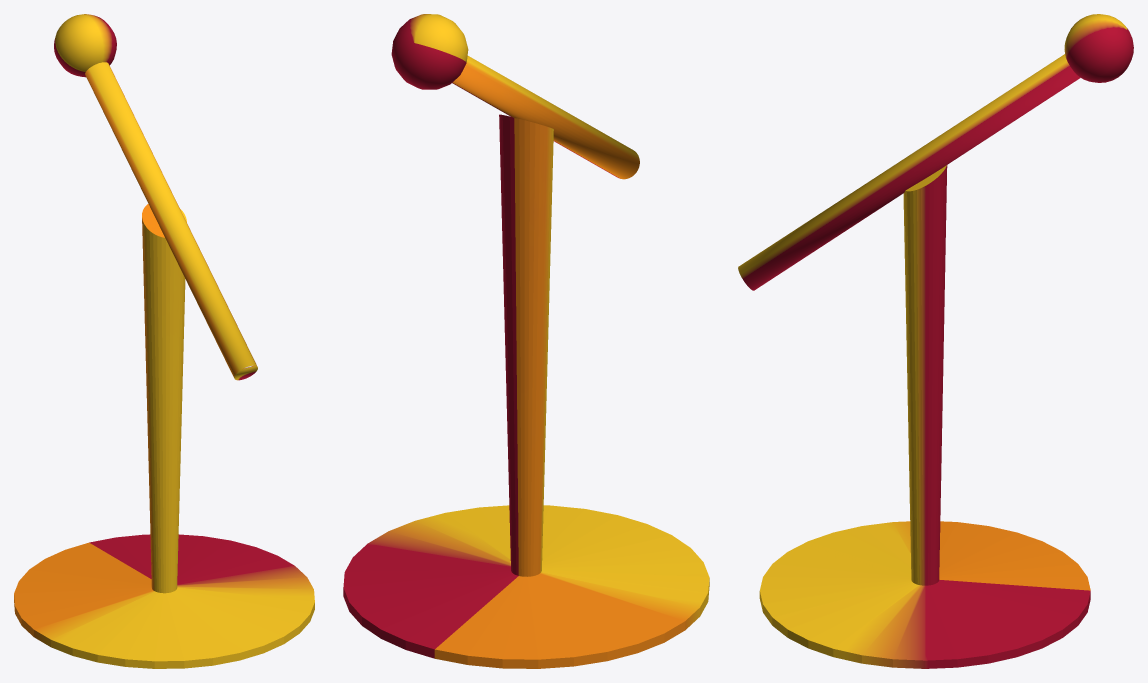
Rendered from microphone.fbx.
3 views of the same model, side by side, from view 1: azimuth 30°, elevation 25°; view 2: azimuth 150°, elevation 25°; view 3: azimuth 270°, elevation 25° (orthographic). The views are drawn at different scales.
Parts seen in each view (by area): view 1: Cylinder.002; view 2: Cylinder.002; view 3: Cylinder.002.
Part boxes in pixels (x1,y1,x2,y2): Cylinder.002: [14, 14, 314, 668]; Cylinder.002: [343, 14, 709, 668]; Cylinder.002: [738, 14, 1133, 668].
Bounding box in the file's own units: 49.24 × 95.54 × 58.88.
